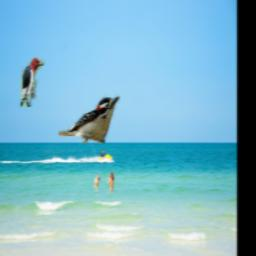Woodpecker: (59, 94, 119, 144), (20, 57, 44, 107)
